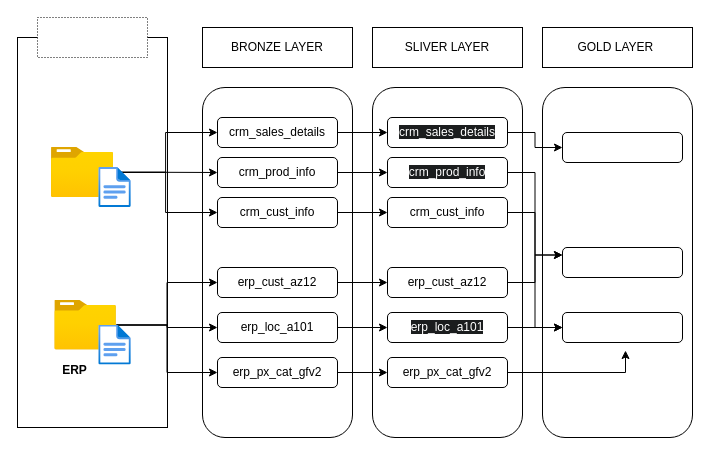
This 710x455 diagram has some shape labels left out. The box of each missing label's shape, as (x1, y1, x2, y2) in pixels:
CRM: (28, 202, 133, 237)
dim_customers: (562, 246, 682, 278)
dim_product: (562, 312, 682, 342)
fact_sales: (562, 132, 682, 162)
SOURCE: (36, 16, 148, 58)
